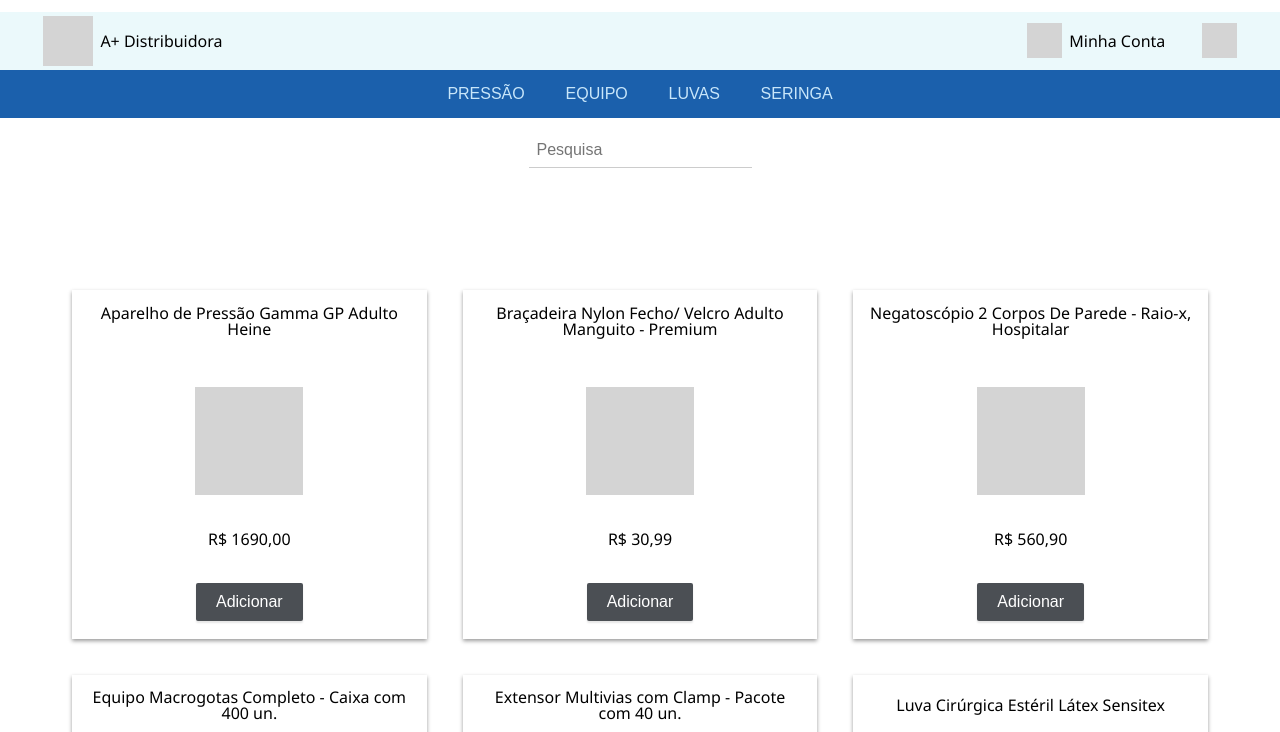
Teste da página principal (App.jsx) › Verifica elementos renderizados por ação do usuário › Verifica se ao escolher um tipo de produto na barra de navegação é renderizado um produto do tipo correto
Click the button with test id "type-product-Luvas".
click(694, 94)  # box [662,84,726,104]
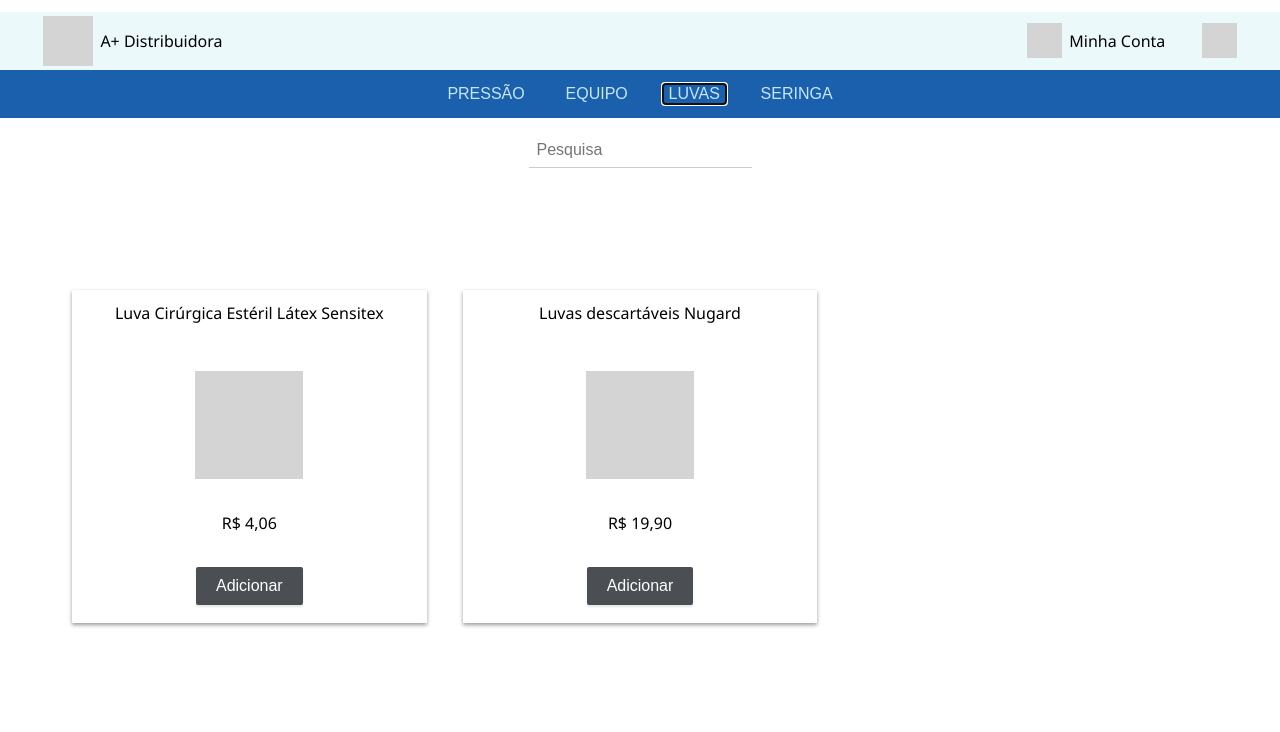
Now the text "Luva Cirúrgica Estéril Látex Sensitex" is shown, box [115,302,384,324]
